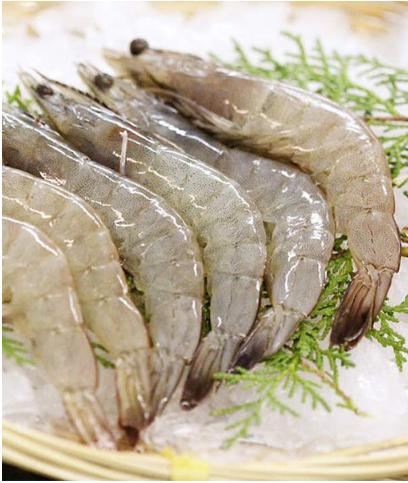White Prawn: (6, 214, 97, 434), (135, 26, 344, 117), (26, 75, 170, 176)
